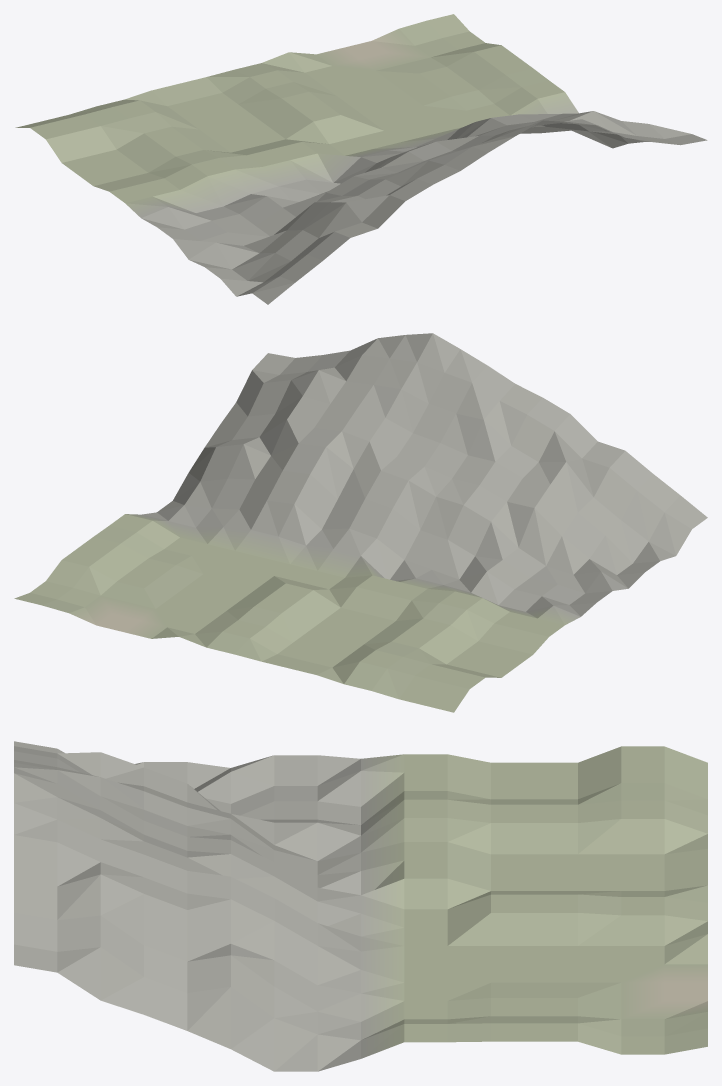
3 views of the same model, one above another, from view 1: azimuth 30°, elevation 25°; view 2: azimuth 150°, elevation 25°; view 3: azimuth 270°, elevation 25° (orthographic). The views are drawn at different scales.
Bounding box in the file's own units: 32 × 9.59 × 32.
